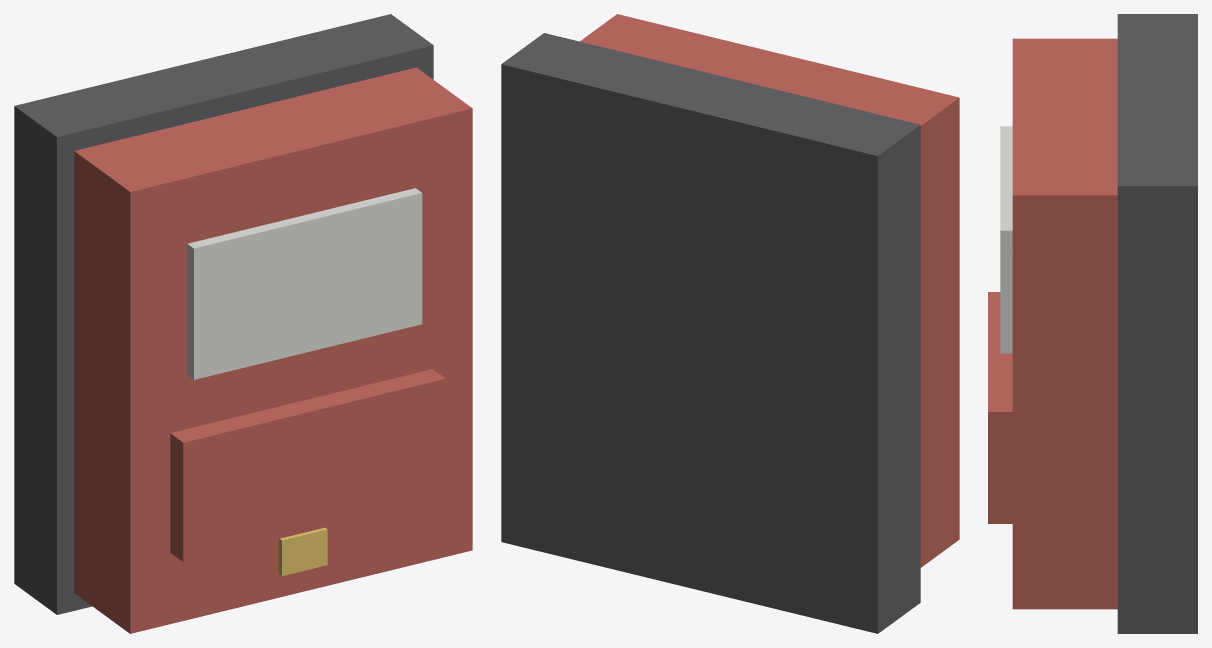
File: firealarm.glb
3 renders of one model, left to right at view 1: azimuth 30°, elevation 25°; view 2: azimuth 150°, elevation 25°; view 3: azimuth 270°, elevation 25°, orthographic. The views are drawn at different scales.
Parts seen in each view (by area): view 1: NC_firealarm; view 2: NC_firealarm; view 3: NC_firealarm.
Boxes of the visible parts, bbox=[...] form: NC_firealarm: bbox=[14, 14, 472, 633]; NC_firealarm: bbox=[501, 14, 959, 633]; NC_firealarm: bbox=[988, 14, 1197, 633].
Bounding box in the file's own units: 0.132 × 0.16 × 0.068.
